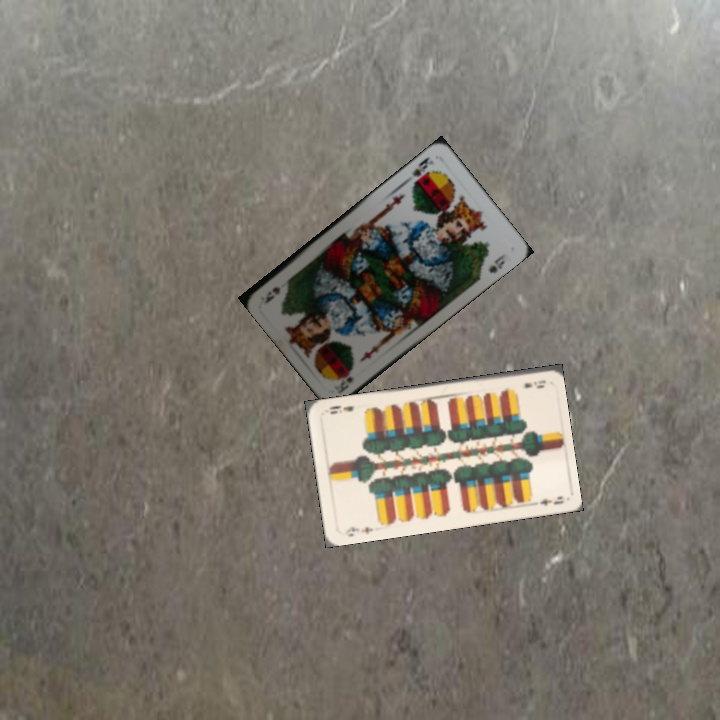E9: (340, 522, 376, 539), (519, 376, 548, 390)
SK: (408, 152, 437, 186), (330, 365, 357, 396)
